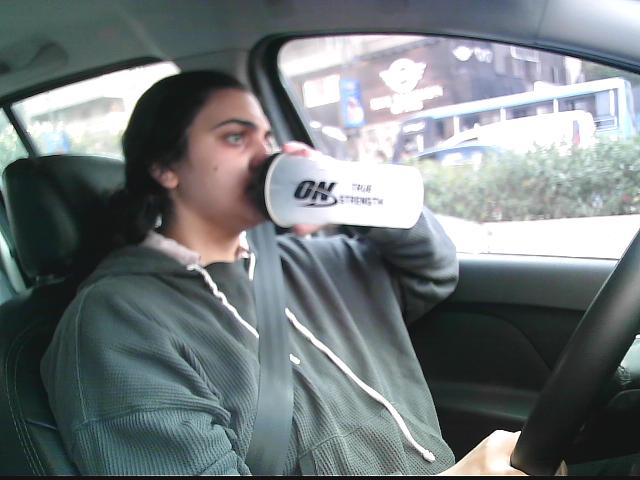Drinking: (249, 143, 426, 234)
